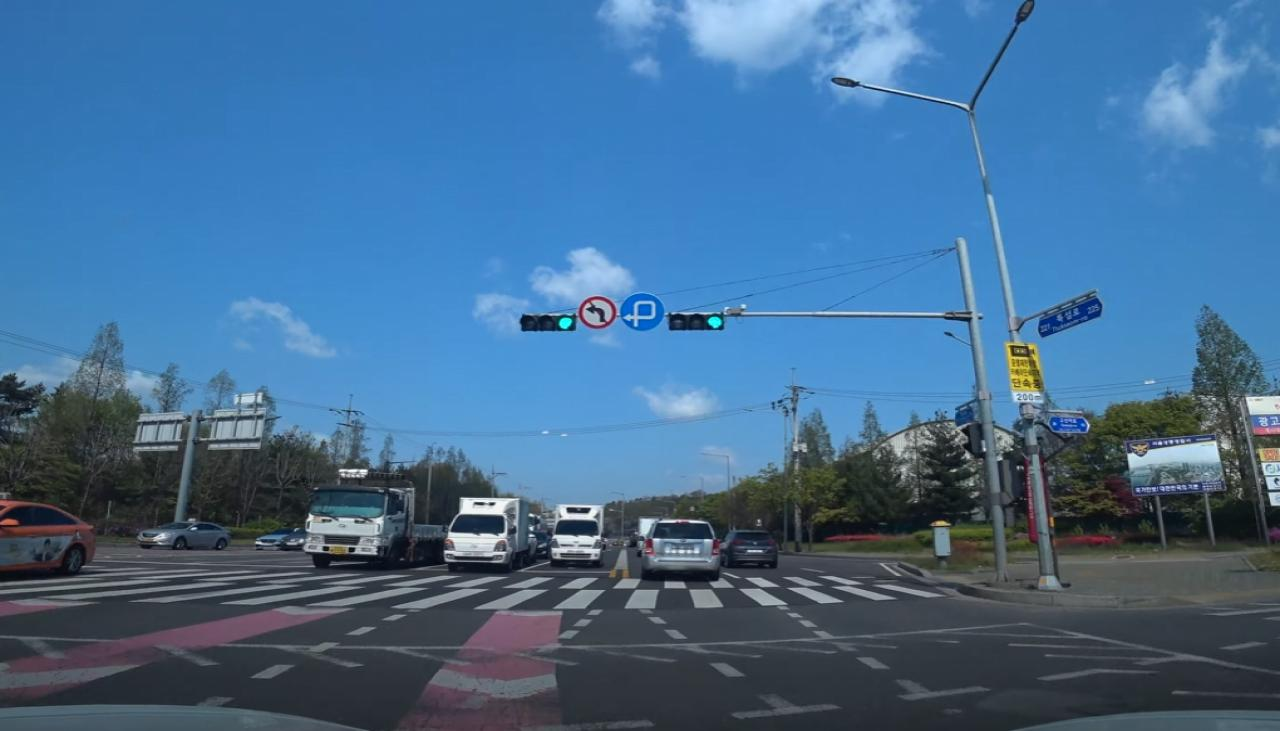Green Light: (555, 315, 576, 331), (705, 314, 724, 330)
